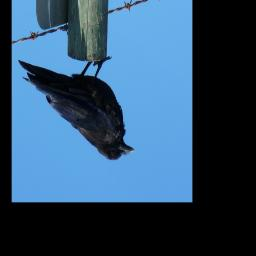Crow: (17, 55, 136, 162)
